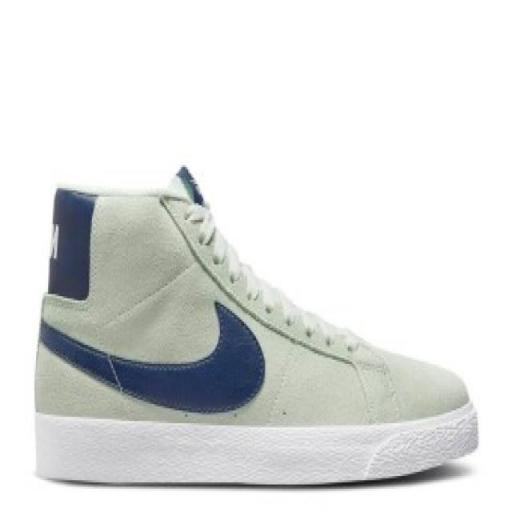Nike: (28, 288, 270, 418)
